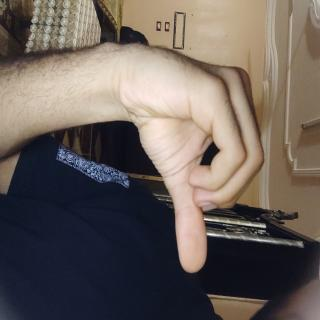WAW: (25, 68, 206, 286)
